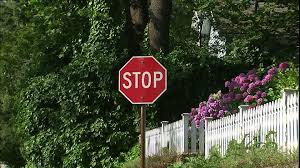Stop: (121, 51, 170, 108)
